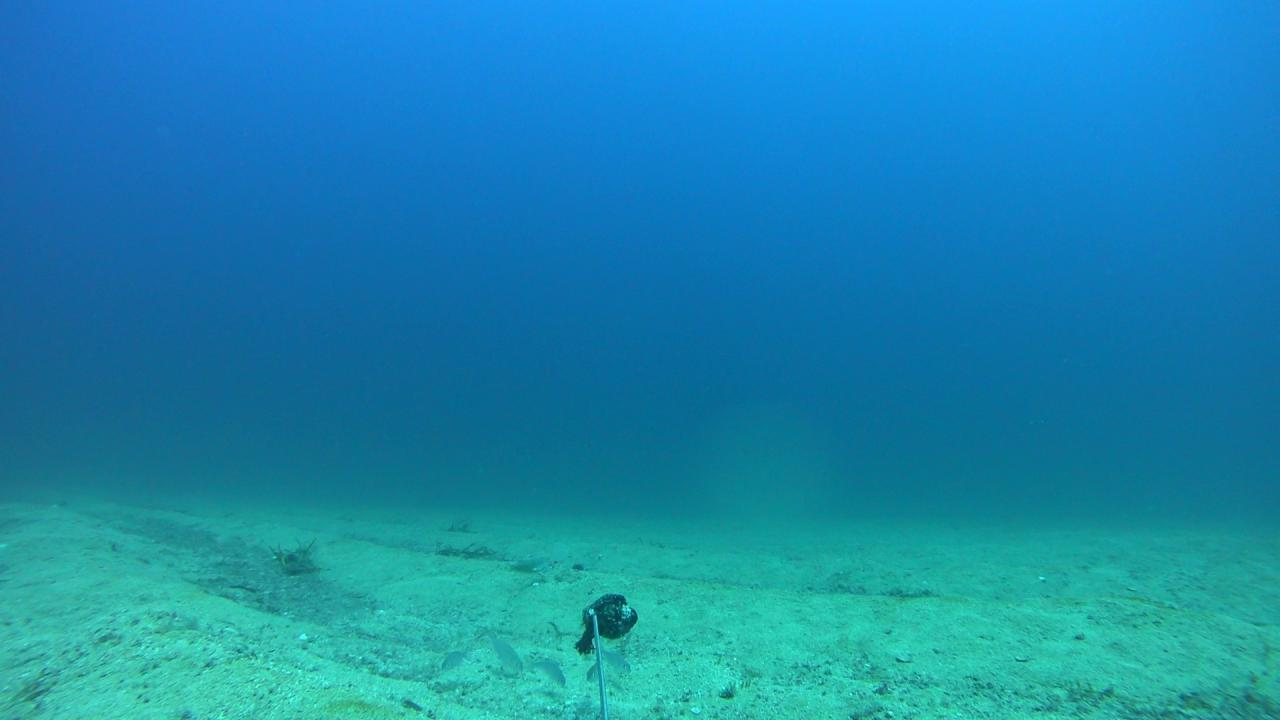pagellus: (479, 626, 527, 674), (529, 659, 566, 685), (600, 651, 633, 677)
